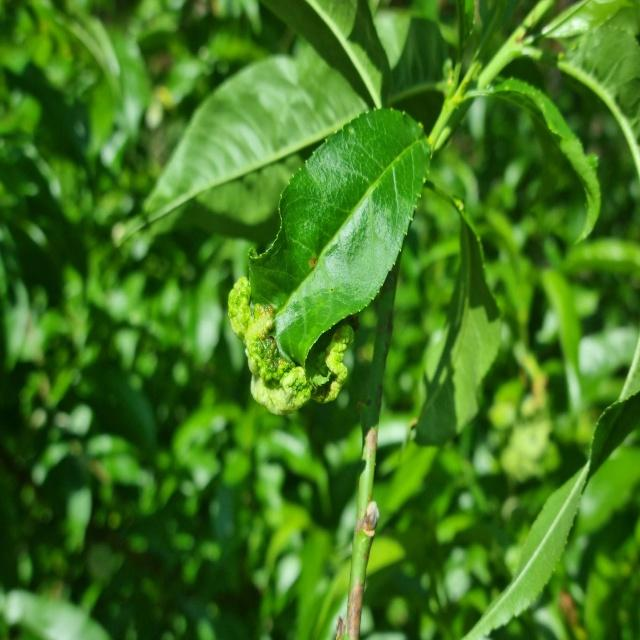leaf_curl: (214, 100, 442, 433)
